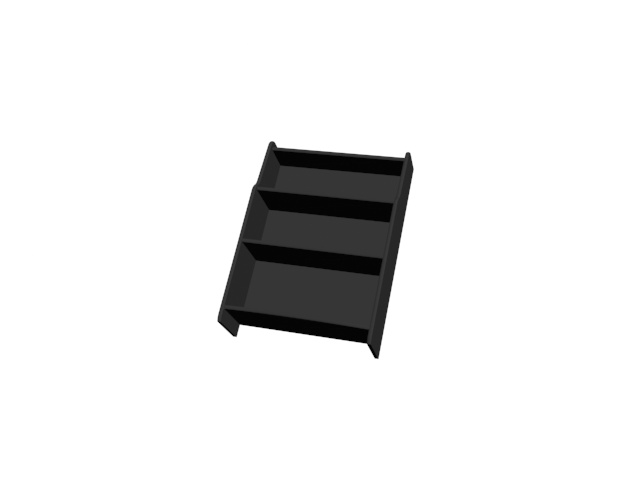bookcase: (217, 137, 416, 360)
